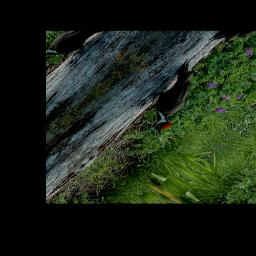Woodpecker: (123, 59, 223, 139)
